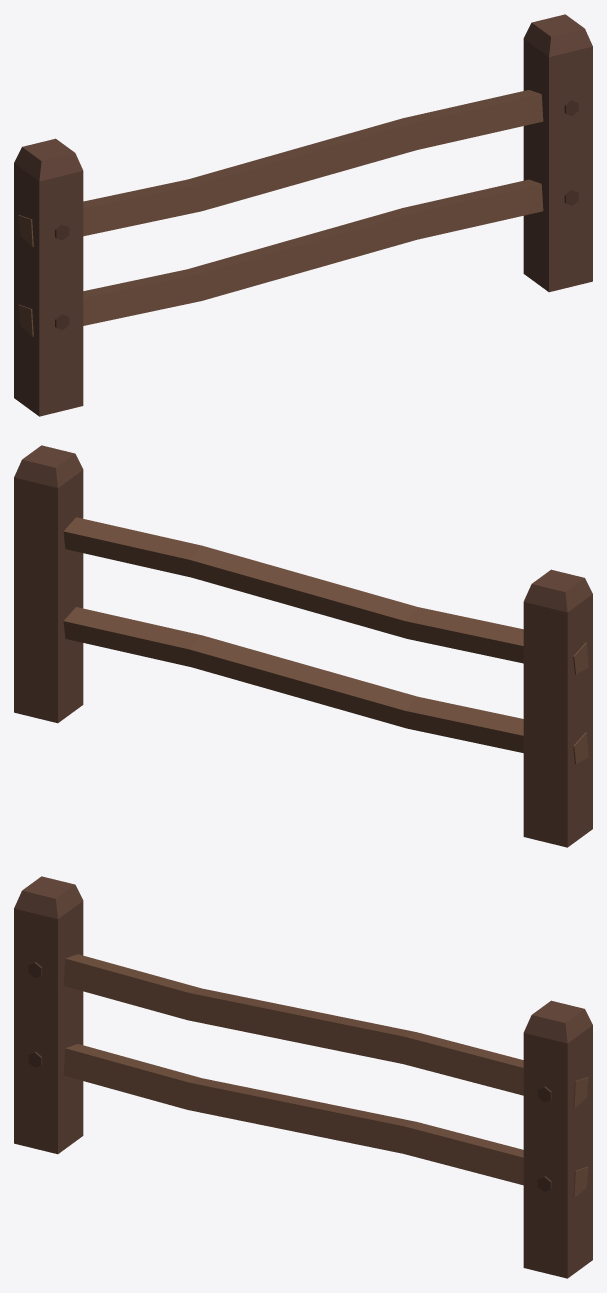
The model's file is fence.glb.
3 renders of one model, top to bottom at view 1: azimuth 30°, elevation 25°; view 2: azimuth 150°, elevation 25°; view 3: azimuth 330°, elevation 25°, orthographic.
Parts seen in each view (by area): view 1: Split cedar posts and pegged rails; view 2: Split cedar posts and pegged rails; view 3: Split cedar posts and pegged rails.
Part boxes in pixels (left/top/right/bottom): Split cedar posts and pegged rails: left=14, top=14, right=592, bottom=416; Split cedar posts and pegged rails: left=14, top=445, right=592, bottom=847; Split cedar posts and pegged rails: left=14, top=876, right=592, bottom=1278.
Size of the model in its own units: 2.4 by 1.04 by 0.2.
